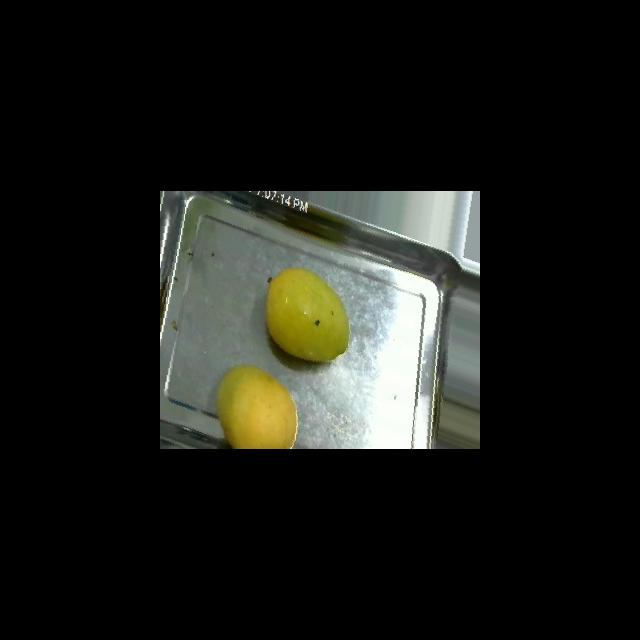Mango: (265, 267, 350, 362), (215, 364, 298, 448)
